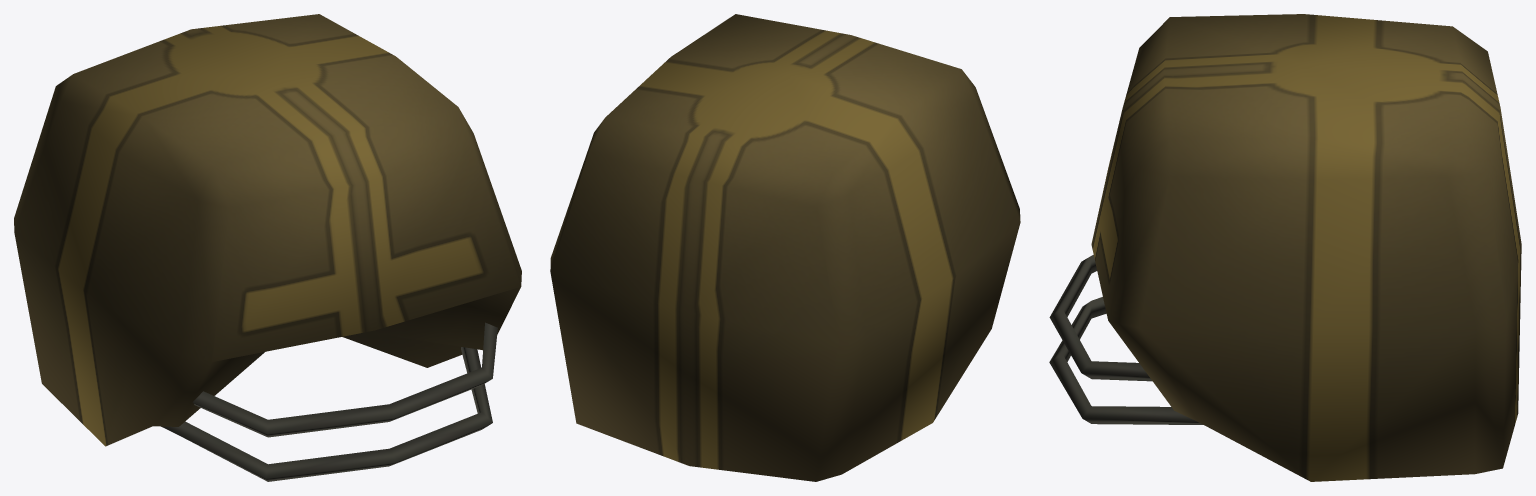
The model's file is bauduc.fbx.
3 renders of one model, left to right at view 1: azimuth 30°, elevation 25°; view 2: azimuth 150°, elevation 25°; view 3: azimuth 270°, elevation 25°, orthographic. The views are drawn at different scales.
Parts seen in each view (by area): view 1: mubauduc; view 2: mubauduc; view 3: mubauduc.
Part boxes in pixels (left/top/right/bottom): mubauduc: left=14, top=14, right=521, bottom=481; mubauduc: left=550, top=14, right=1020, bottom=481; mubauduc: left=1049, top=14, right=1521, bottom=481.
Size of the model in its own units: 91.16 by 82.14 by 101.
